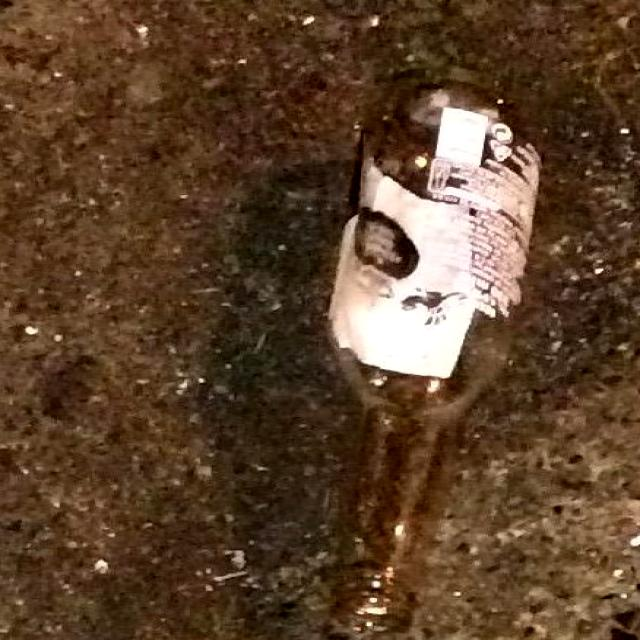Glass: (311, 53, 564, 636)
